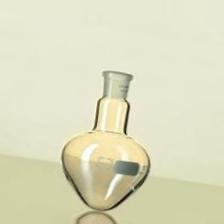Pear shaped flask: (56, 74, 159, 211)
